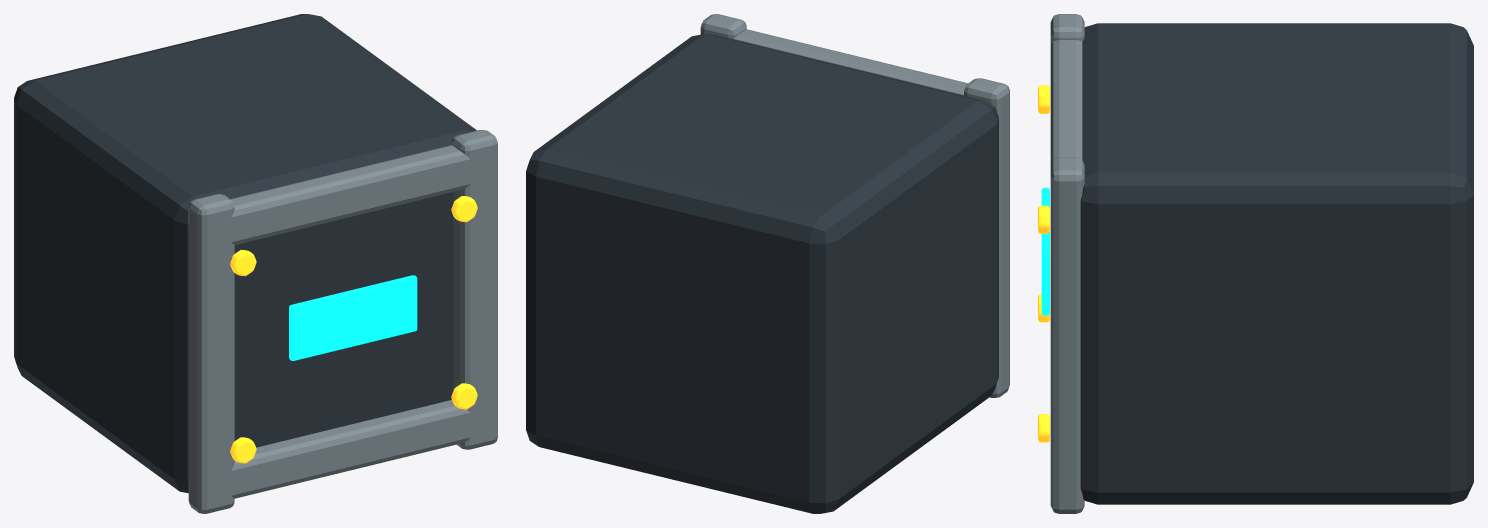
Rendered from Cargo-Crate.glb.
3 views of the same model, side by side, from view 1: azimuth 30°, elevation 25°; view 2: azimuth 150°, elevation 25°; view 3: azimuth 270°, elevation 25° (orthographic). The views are drawn at different scales.
Parts seen in each view (by area): view 1: Crate_Body, Crate_Frame_V, Crate_Frame_H.001, Crate_Frame_H, Crate_Frame_V.001, Crate_CyanLabel, Crate_Bolt_3, Crate_Bolt_1, Crate_Bolt_2, Crate_Bolt_0; view 2: Crate_Body, Crate_Frame_V, Crate_Frame_H.001, Crate_Frame_V.001; view 3: Crate_Body, Crate_Frame_V.001, Crate_Frame_H.001, Crate_CyanLabel, Crate_Frame_V.
Part boxes in pixels (<box>): Crate_Body: <box>14,14,476,493</box>; Crate_Frame_V: <box>188,194,234,513</box>; Crate_Frame_H.001: <box>210,145,491,246</box>; Crate_Frame_H: <box>210,400,491,500</box>; Crate_Frame_V.001: <box>452,130,497,449</box>; Crate_CyanLabel: <box>289,275,417,360</box>; Crate_Bolt_3: <box>451,196,477,222</box>; Crate_Bolt_1: <box>451,383,477,409</box>; Crate_Bolt_2: <box>230,249,256,276</box>; Crate_Bolt_0: <box>230,437,256,463</box>; Crate_Body: <box>526,34,998,513</box>; Crate_Frame_V: <box>964,78,1009,397</box>; Crate_Frame_H.001: <box>733,29,967,95</box>; Crate_Frame_V.001: <box>700,14,746,38</box>; Crate_Body: <box>1080,23,1473,504</box>; Crate_Frame_V.001: <box>1050,157,1084,513</box>; Crate_Frame_H.001: <box>1050,40,1082,164</box>; Crate_CyanLabel: <box>1041,187,1049,315</box>; Crate_Frame_V: <box>1050,14,1084,43</box>.
Size of the model in its own units: 1.18 by 1.12 by 1.29.
